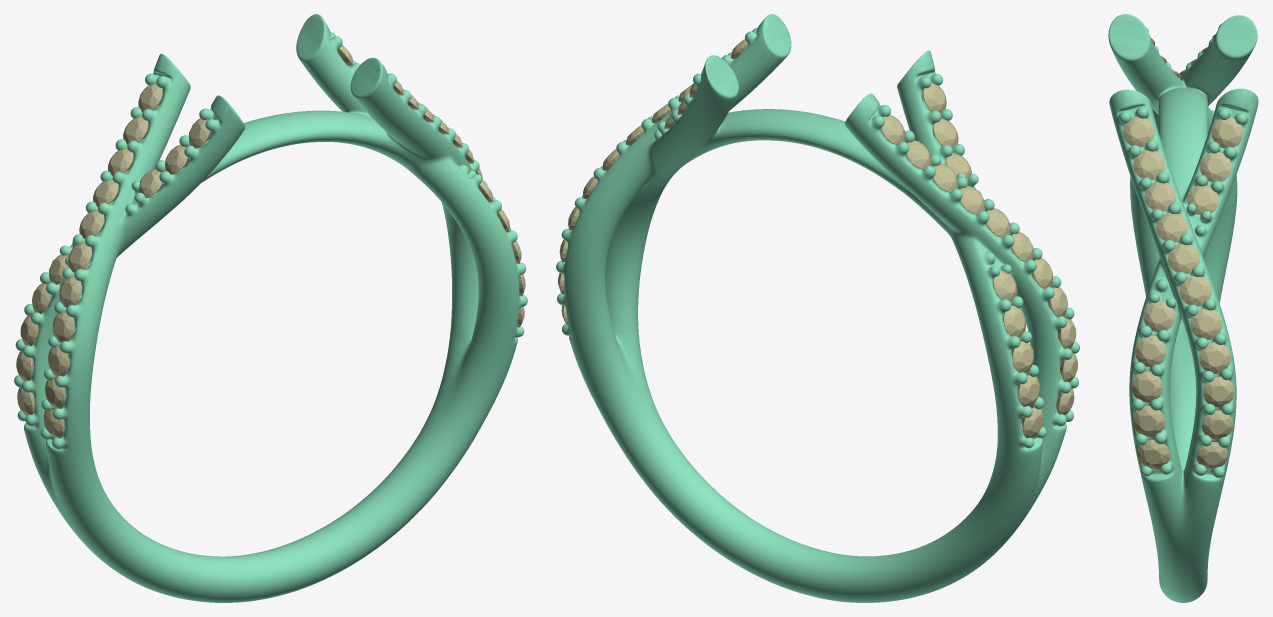
The picture shows the model from 3 angles, left to right: view 1: azimuth 30°, elevation 25°; view 2: azimuth 150°, elevation 25°; view 3: azimuth 270°, elevation 25°; orthographic projection. The views are drawn at different scales.
Visible parts, largest first — view 1: Metal02; view 2: Metal02; view 3: Metal02, Diamond_Gem.037, Diamond_Gem.034, Diamond_Gem.023, Diamond_Gem.032, Diamond_Gem.021, Diamond_Gem.024, Diamond_Gem.033, Diamond_Gem.035, Diamond_Gem.020, Diamond_Gem.027, Diamond_Gem.025 (+8 smaller).
Boxes of the visible parts, <box> form: Metal02: <box>14,14,527,602</box>; Metal02: <box>556,14,1079,602</box>; Metal02: <box>1108,14,1258,602</box>; Diamond_Gem.037: <box>1132,405,1164,436</box>; Diamond_Gem.034: <box>1135,335,1166,367</box>; Diamond_Gem.023: <box>1190,308,1222,339</box>; Diamond_Gem.032: <box>1179,275,1211,306</box>; Diamond_Gem.021: <box>1211,117,1243,148</box>; Diamond_Gem.024: <box>1199,342,1230,373</box>; Diamond_Gem.033: <box>1143,300,1174,332</box>; Diamond_Gem.035: <box>1131,371,1162,402</box>; Diamond_Gem.020: <box>1200,152,1231,182</box>; Diamond_Gem.027: <box>1122,116,1154,147</box>; Diamond_Gem.025: <box>1203,376,1234,407</box>.
Size of the model in its own units: 21.31 by 22.84 by 5.9.
